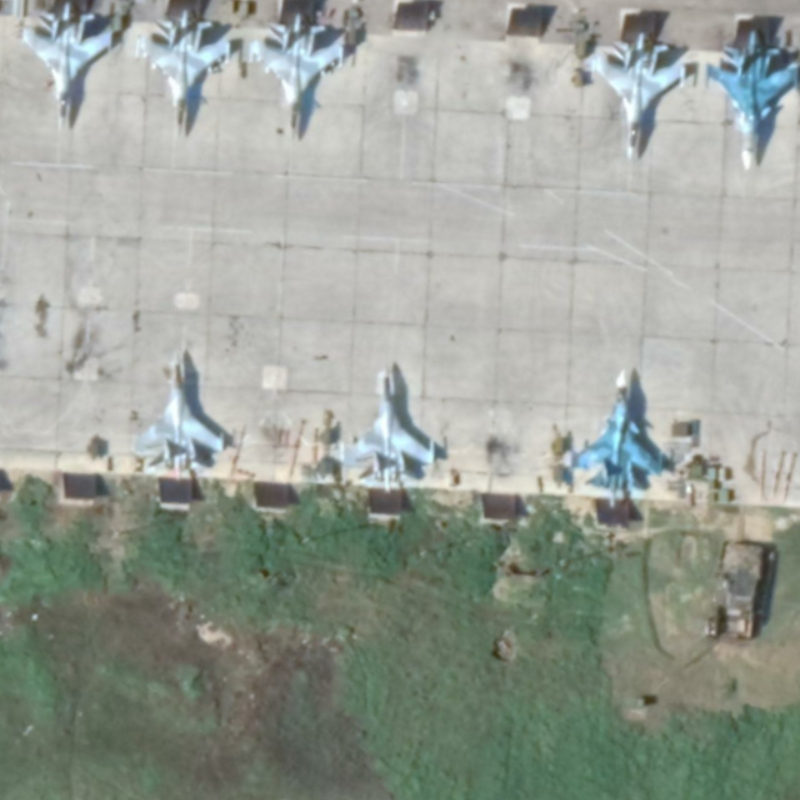A1: (587, 29, 688, 163), (246, 11, 347, 141), (134, 7, 233, 136), (134, 349, 228, 484), (18, 2, 114, 133), (342, 366, 438, 496)
A19: (567, 366, 667, 511), (702, 27, 800, 174)
